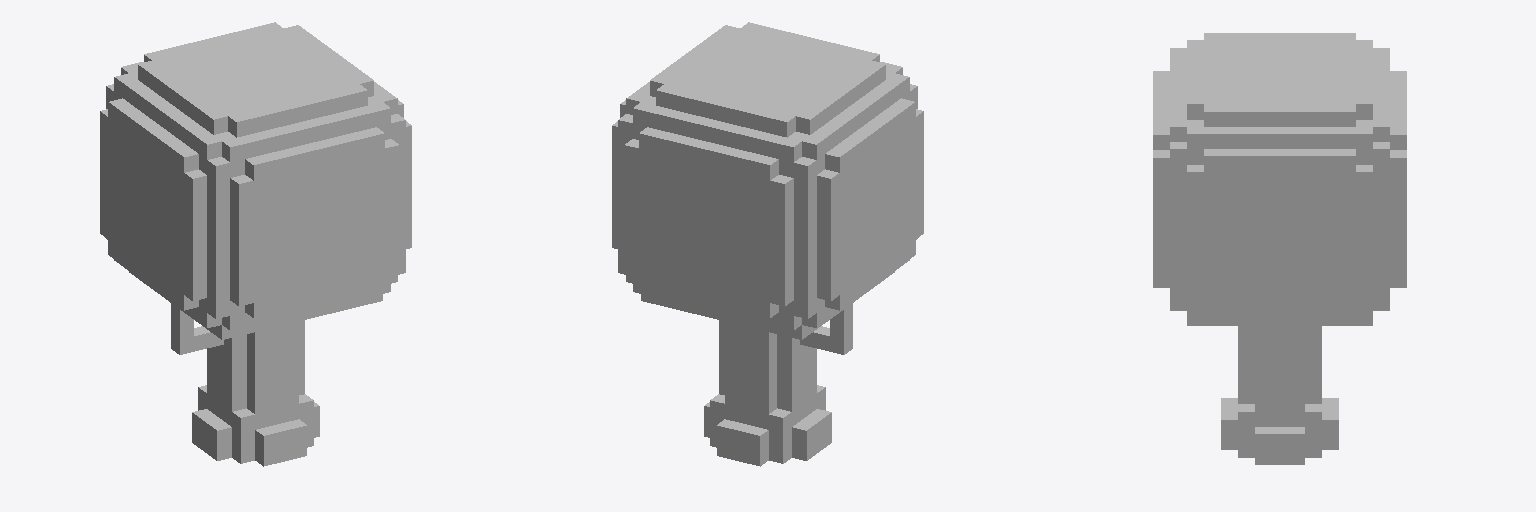
File: Oak Tree Large.obj
The picture shows the model from 3 angles: view 1: azimuth 30°, elevation 25°; view 2: azimuth 150°, elevation 25°; view 3: azimuth 270°, elevation 25°; orthographic projection.
Parts seen in each view (by area): view 1: object 1; view 2: object 1; view 3: object 1.
Boxes of the visible parts, x1,y1,x2,y2 form: object 1: [100, 22, 411, 466]; object 1: [612, 22, 923, 466]; object 1: [1153, 33, 1406, 464].
Bounding box in the file's own units: 1.5 × 2.4 × 1.5.